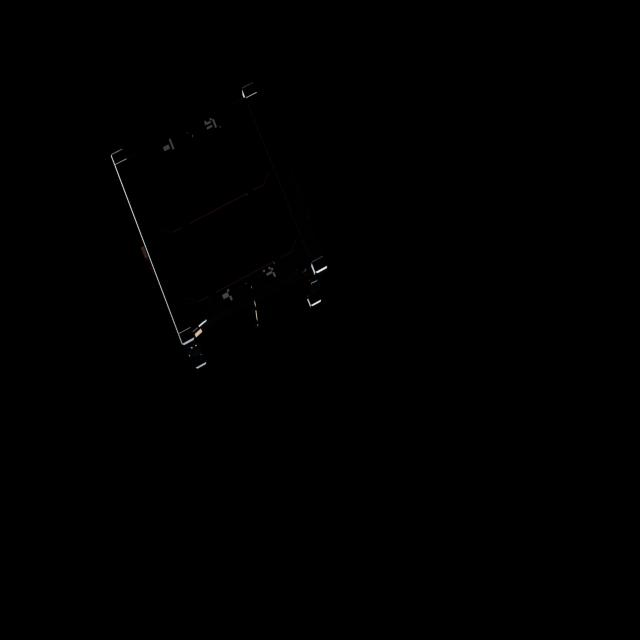medium_debris: (103, 80, 362, 378)
